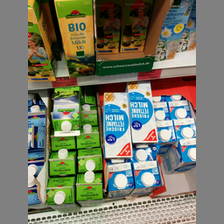milk: (55, 1, 96, 80), (123, 82, 162, 150), (102, 91, 133, 164)
